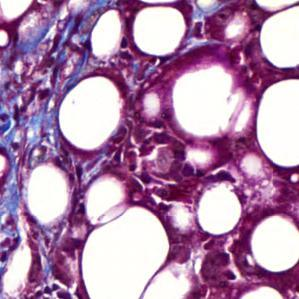steatosis: (135, 7, 189, 57), (251, 214, 299, 270), (197, 186, 242, 234)
